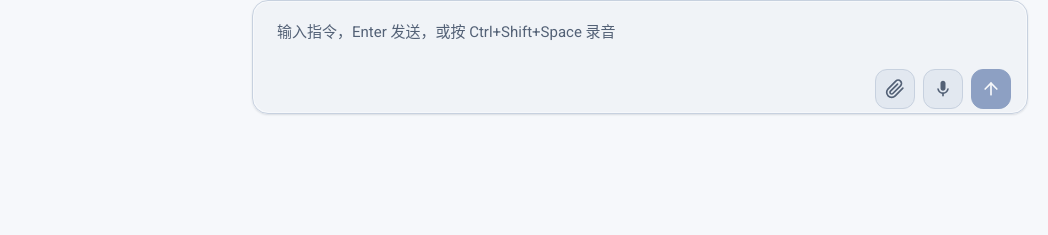
Composer context menu › pastes clipboard text into the draft
The image size is (1048, 235).
Right-click the text box with placeholder "输入指令，Enter 发送，或按 Ctrl+Shift+Space 录音" at {"x": 640, "y": 33}, box [269,9,1011,57]
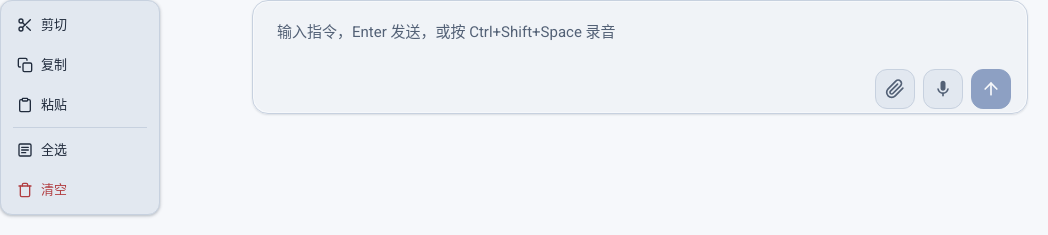
Click the menu item "粘贴" at {"x": 80, "y": 105}, box [5,85,155,125]
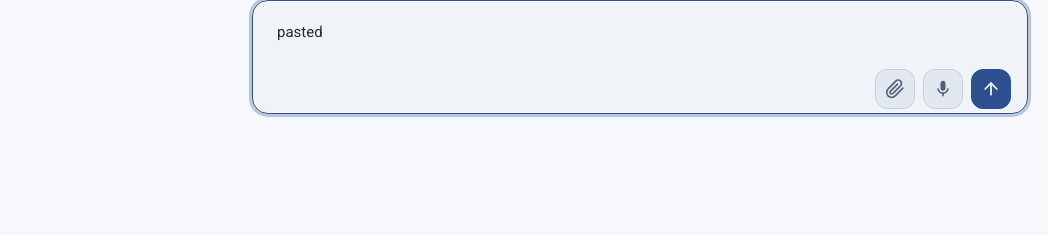
Check: the text box holds "pasted", box [269,9,1011,57]
